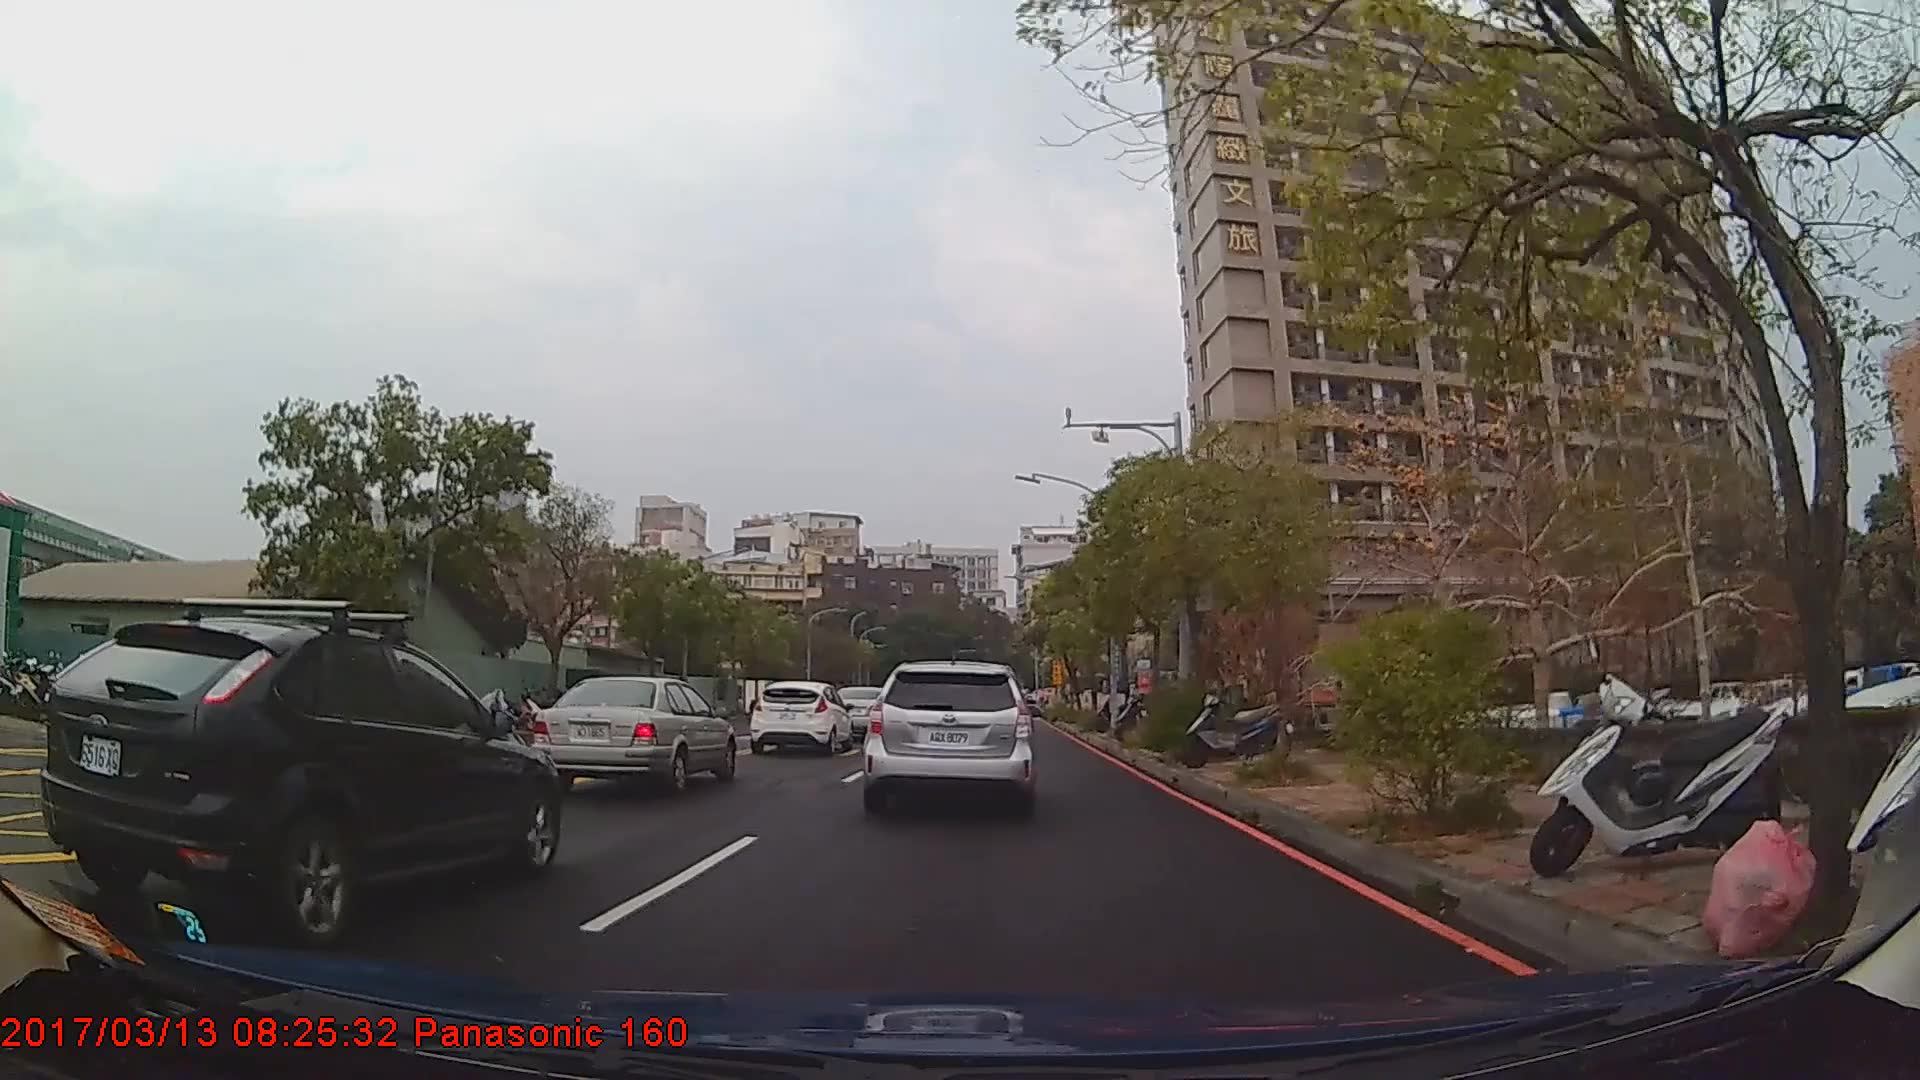vehicle: (40, 618, 560, 943), (861, 659, 1036, 814), (529, 674, 735, 794), (746, 680, 851, 756)
